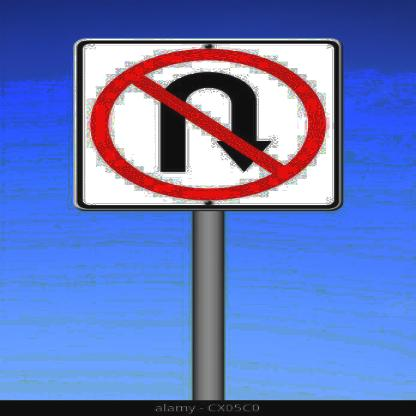No U-turn: (79, 39, 339, 204)
